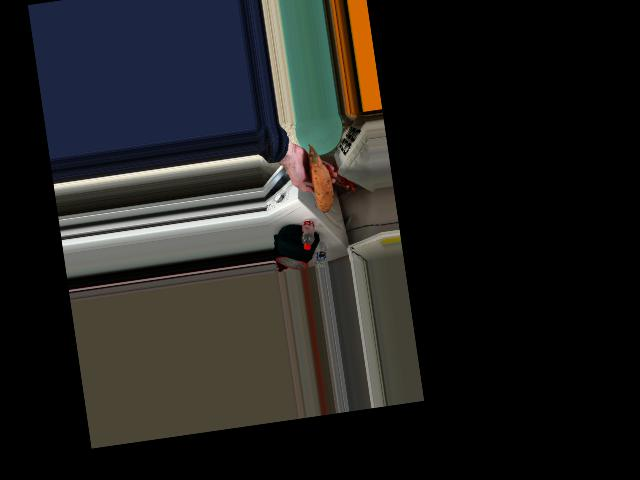sweet_potato: (304, 146, 331, 208)
